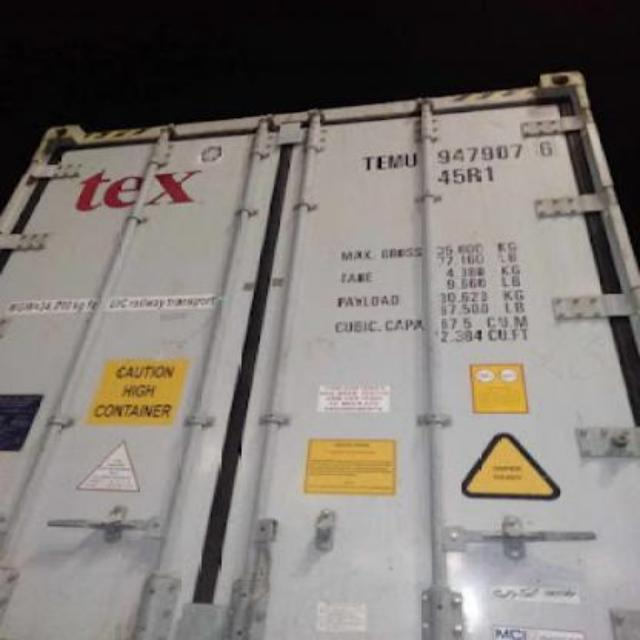0: (496, 143, 509, 161)
4: (450, 145, 466, 165)
6: (538, 141, 554, 159)
7: (466, 146, 479, 164), (511, 144, 524, 160)
9: (482, 146, 494, 164), (438, 149, 450, 165)
E: (376, 153, 388, 171)
M: (391, 154, 404, 168)
T: (364, 156, 374, 170)
U: (406, 154, 418, 168)
